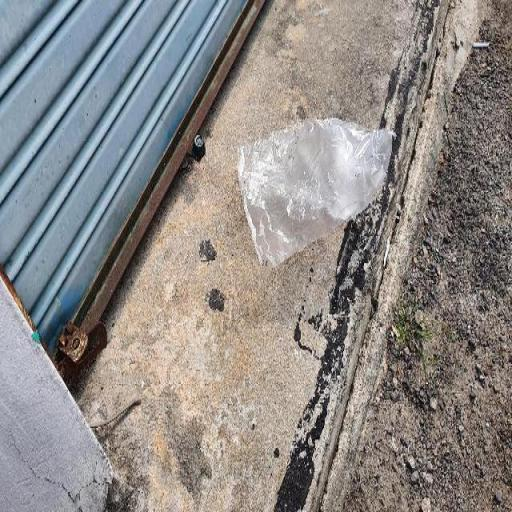plastic-bag: (236, 117, 394, 269)
